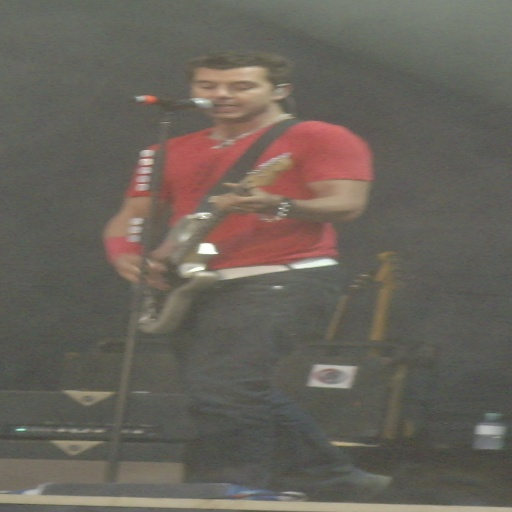hand: (99, 248, 170, 288), (211, 182, 271, 212)
